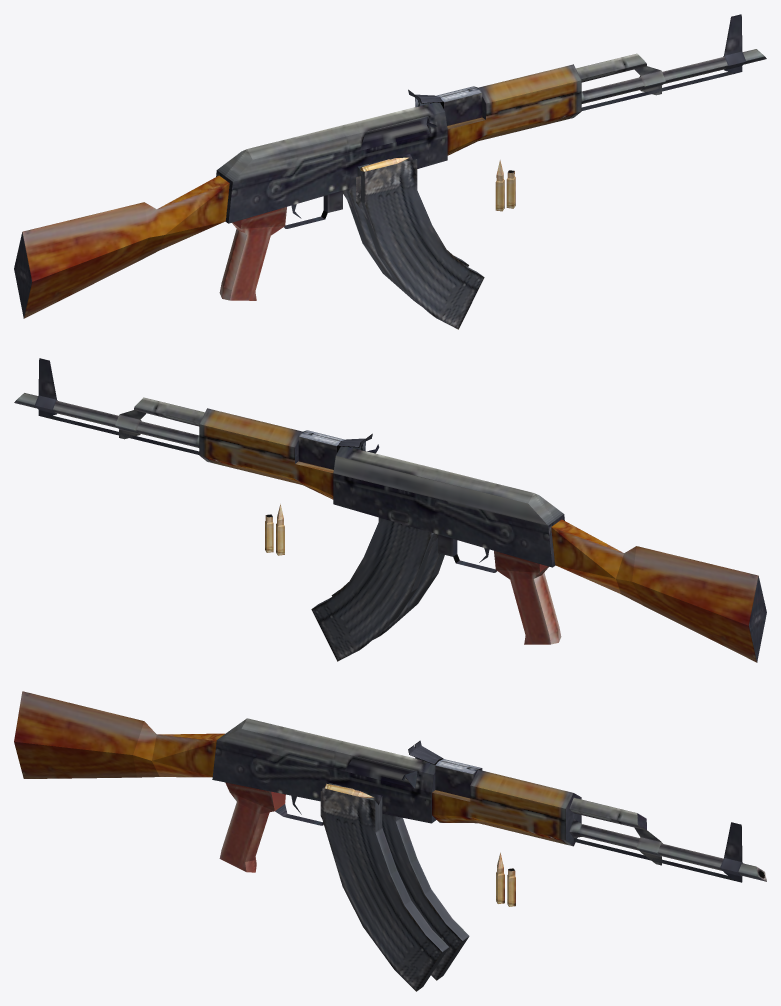
File: AKM.obj
3 views of the same model, one above another, from view 1: azimuth 30°, elevation 25°; view 2: azimuth 150°, elevation 25°; view 3: azimuth 330°, elevation 25° (orthographic).
Parts seen in each view (by area): view 1: AKM, AKM_Mag_Full, AKM_Mag_Empty; view 2: AKM, AKM_Mag_Empty, AKM_Mag_Full; view 3: AKM, AKM_Mag_Full, AKM_Mag_Empty.
Boxes of the visible parts, bbox=[...] form: AKM: bbox=[14, 14, 766, 318]; AKM_Mag_Full: bbox=[356, 154, 484, 329]; AKM_Mag_Empty: bbox=[343, 187, 468, 305]; AKM: bbox=[14, 358, 766, 662]; AKM_Mag_Empty: bbox=[311, 517, 437, 661]; AKM_Mag_Full: bbox=[331, 538, 444, 639]; AKM: bbox=[14, 691, 766, 882]; AKM_Mag_Full: bbox=[320, 783, 448, 991]; AKM_Mag_Empty: bbox=[382, 813, 469, 980].
Bounding box in the file's own units: 4.48 × 1.31 × 0.3148.
